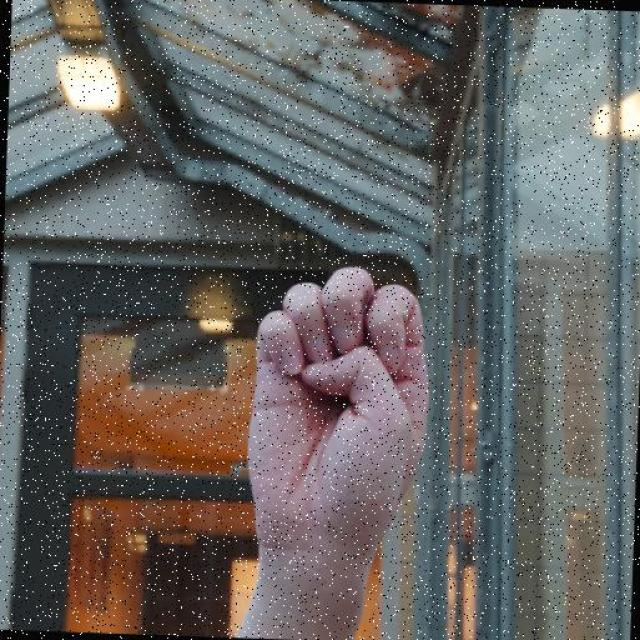E: (235, 256, 439, 558)
